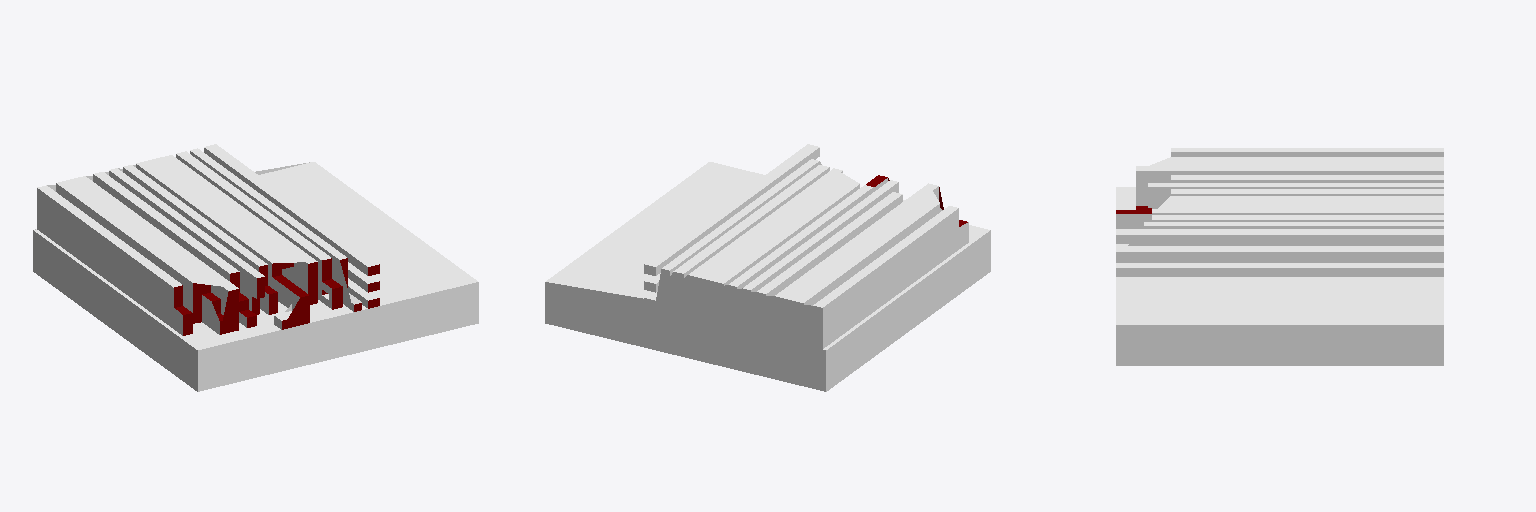
Rendered from INVISIBLE_Cindy.obj.
3 renders of one model, left to right at view 1: azimuth 30°, elevation 25°; view 2: azimuth 150°, elevation 25°; view 3: azimuth 270°, elevation 25°, orthographic.
Parts seen in each view (by area): view 1: Mesh1 Model, Mesh2 Model; view 2: Mesh1 Model, Mesh2 Model; view 3: Mesh1 Model, Mesh2 Model, Mesh3 Model.
Boxes of the visible parts, x1,y1,x2,y2 form: Mesh1 Model: [33, 148, 478, 391]; Mesh2 Model: [204, 144, 379, 275]; Mesh1 Model: [545, 159, 990, 391]; Mesh2 Model: [644, 144, 819, 275]; Mesh1 Model: [1116, 148, 1443, 365]; Mesh2 Model: [1116, 229, 1443, 243]; Mesh3 Model: [1116, 246, 1443, 259].
Size of the model in its own units: 183 by 51.69 by 185.